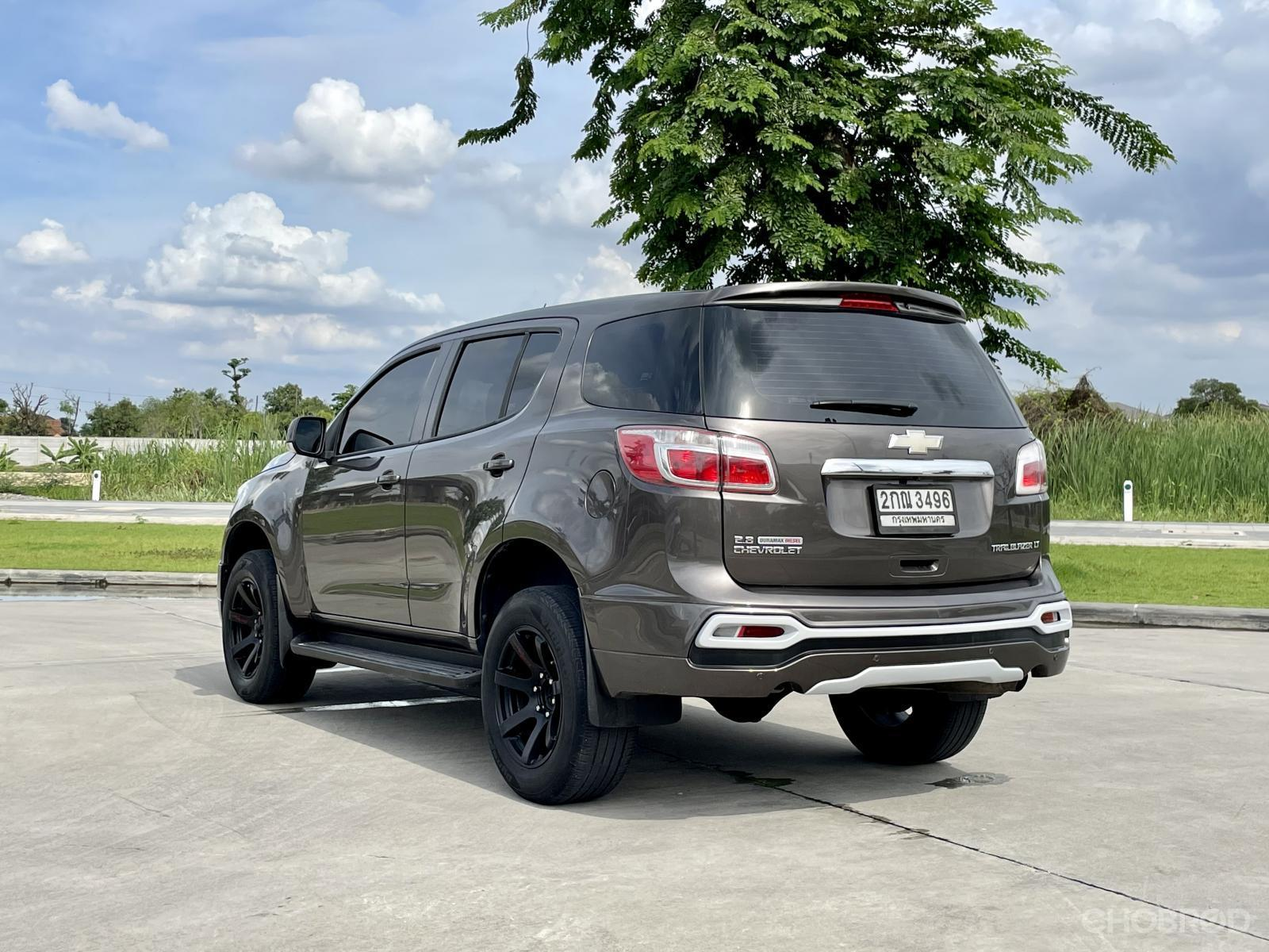license-plate: (867, 479, 963, 533)
